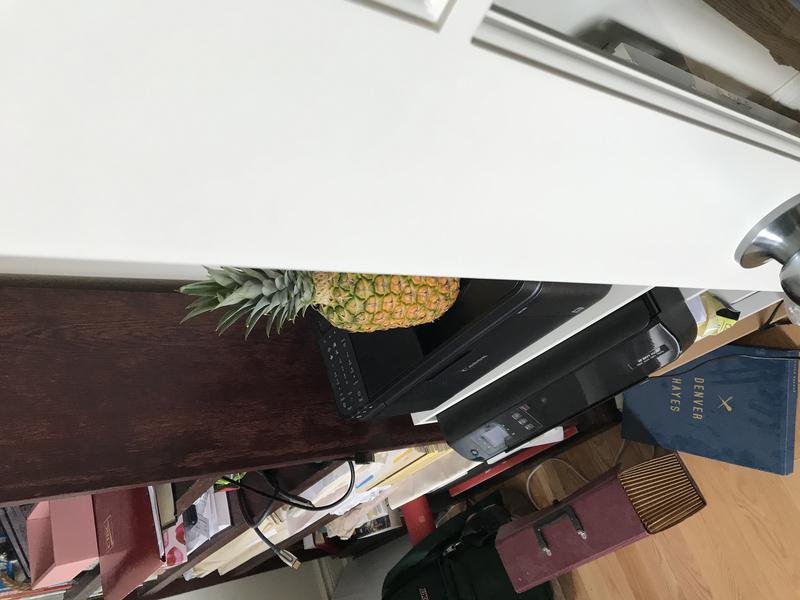pineapple: (174, 244, 475, 347)
